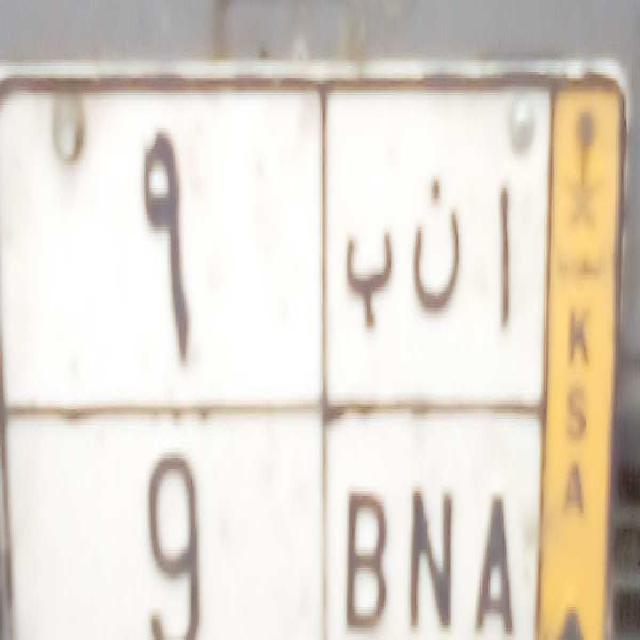license_plate: (1, 403, 543, 640)
